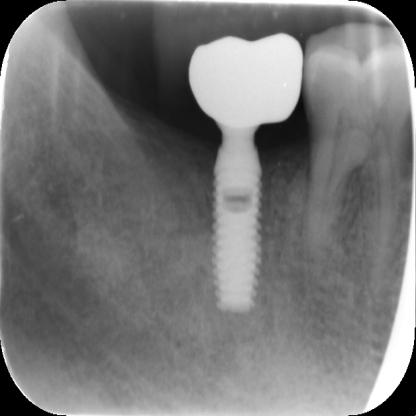Bicon: (200, 128, 280, 314)
